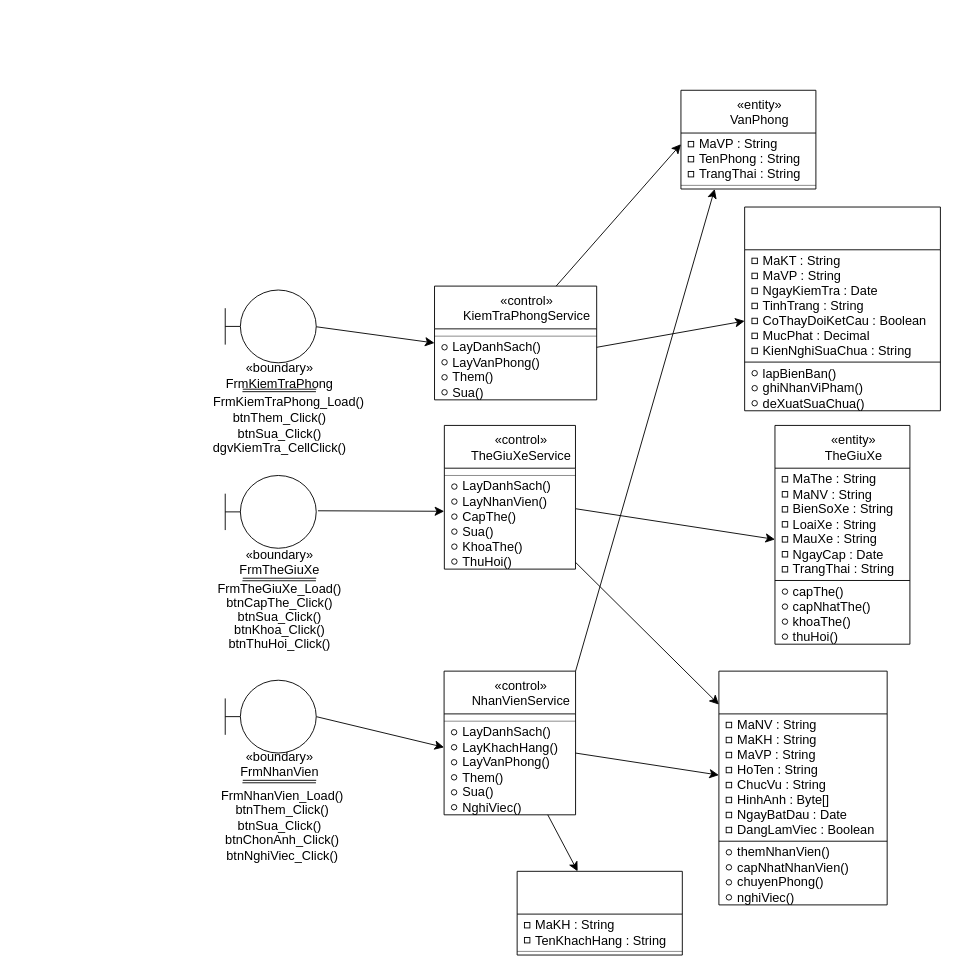
Some shapes in this 956 by 971 pixel diagram are drawn without their labels. Here are the shapes that lost their labels. From the top down, the box of each, then its label:
(744, 206, 940, 411): «entity» KiemTraPhong
(718, 670, 887, 905): «entity» NhanVienVanPhong
(516, 870, 682, 955): «entity» KhachHang
